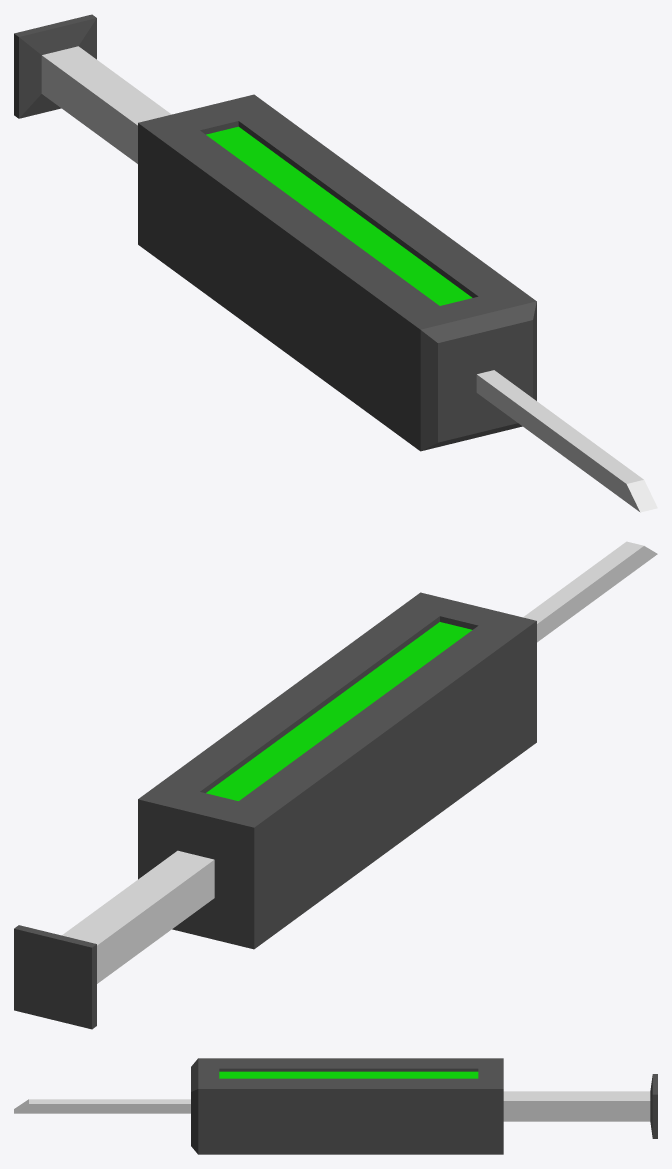
Rendered from vaccine.fbx.
The picture shows the model from 3 angles, top to bottom: view 1: azimuth 30°, elevation 25°; view 2: azimuth 150°, elevation 25°; view 3: azimuth 270°, elevation 25°; orthographic projection. The views are drawn at different scales.
Visible parts, largest first — view 1: Cube; view 2: Cube; view 3: Cube.
Part boxes in pixels (x1,y1,x2,y2): Cube: (14,14,657,512); Cube: (14,541,657,1029); Cube: (14,1058,657,1154).
Size of the model in its own units: 200 by 200 by 1775.
